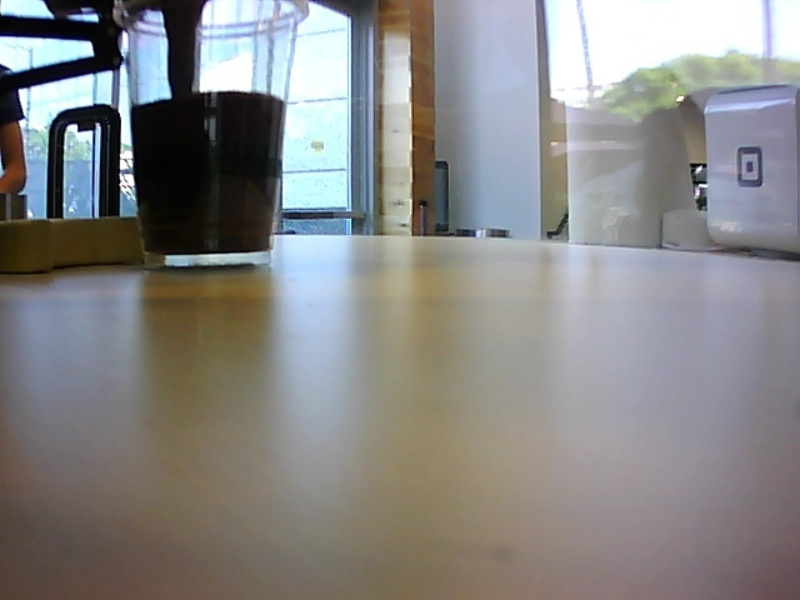cup: (107, 1, 310, 275)
limit: (128, 83, 290, 115)
